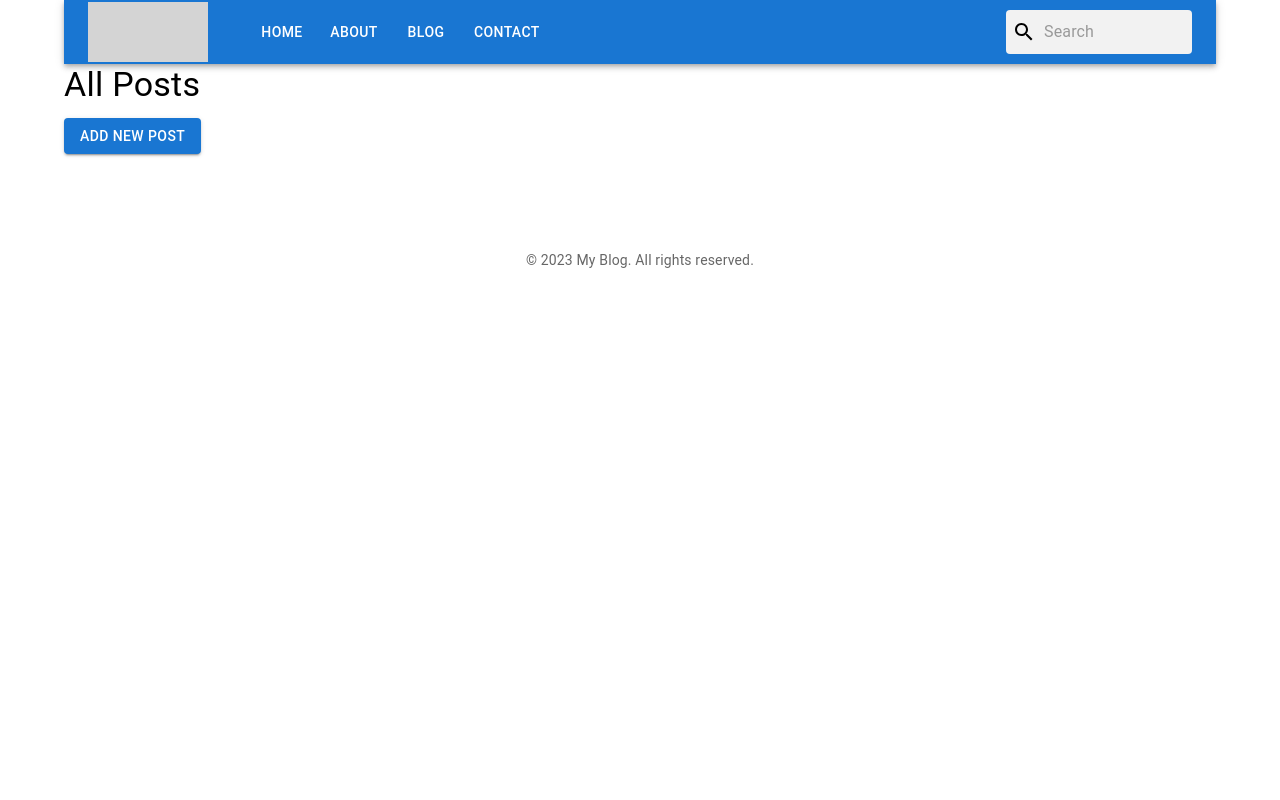
it: BlogPage Component › opens create post modal when add new post button is clicked
Click the button "Add New Post": (133, 136) [64,118,201,154]
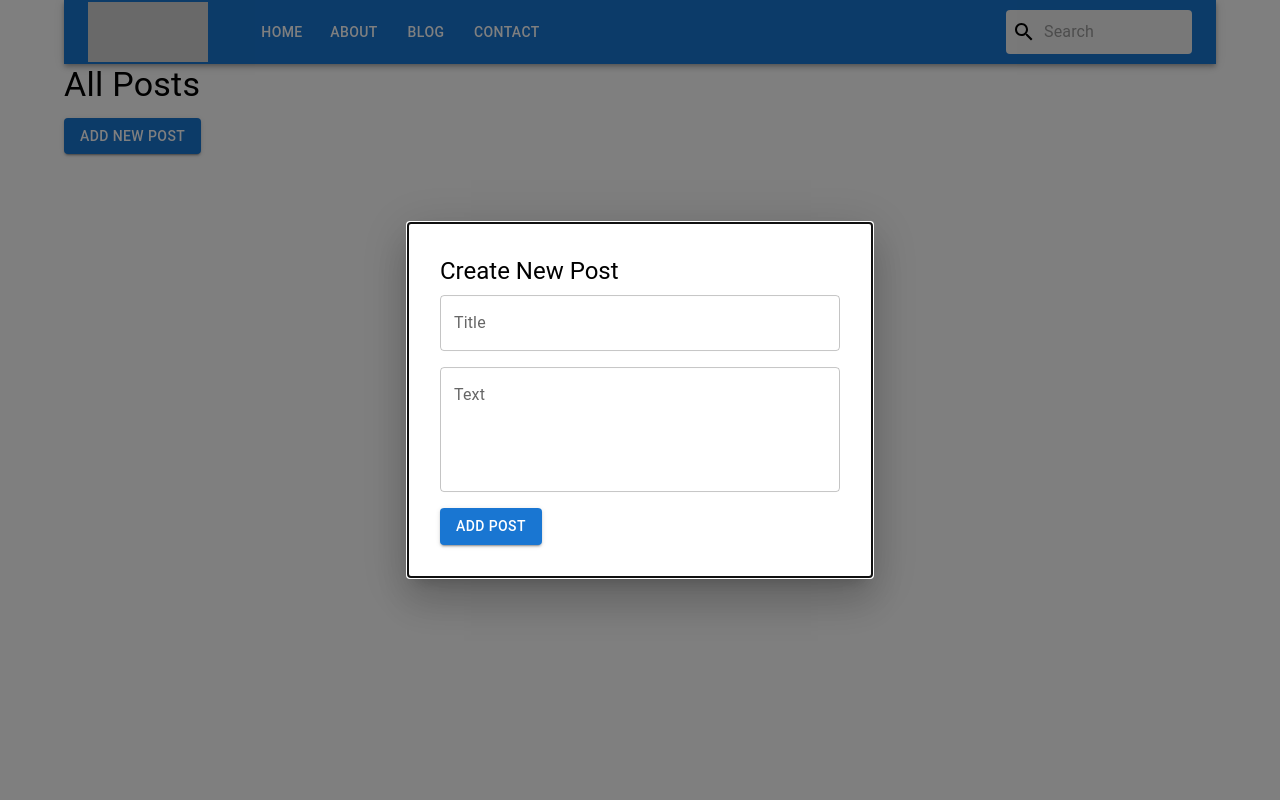
Now the element with test id "create-post-modal" is shown
